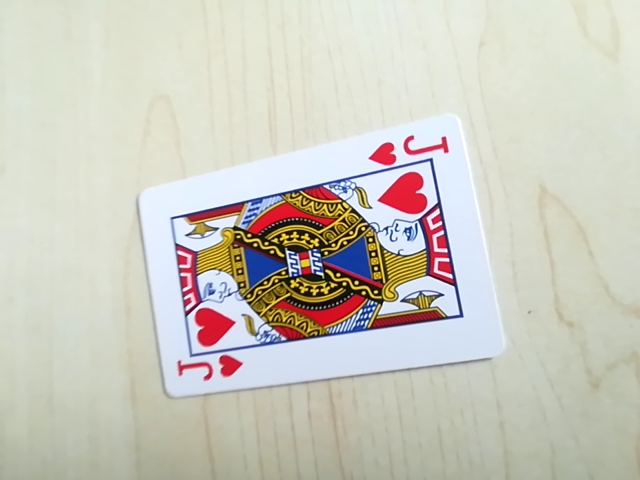hx j: (367, 128, 453, 168), (171, 349, 248, 392)
